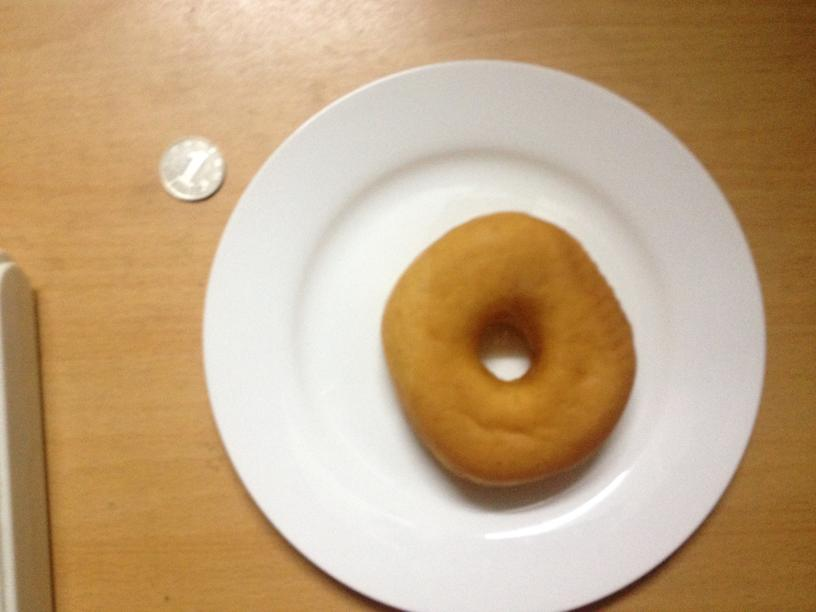coin: (157, 135, 224, 200)
doughnut: (378, 209, 637, 488)
